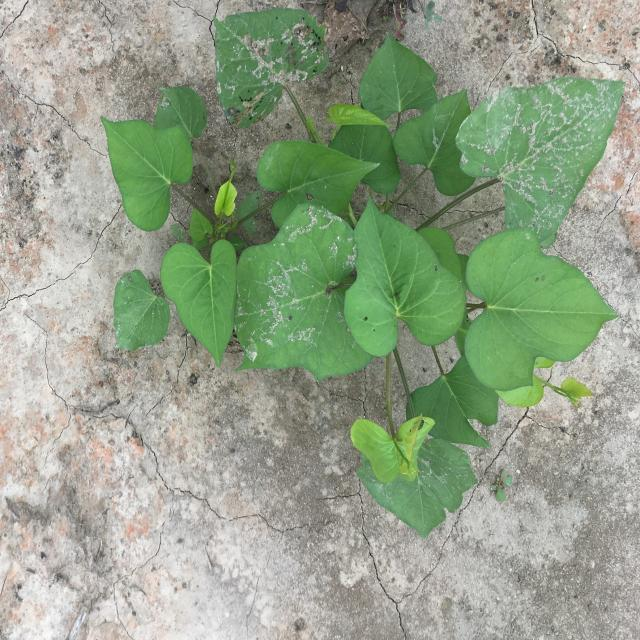Carpetweed: (491, 469, 513, 502)
MorningGlory: (100, 5, 628, 539)
